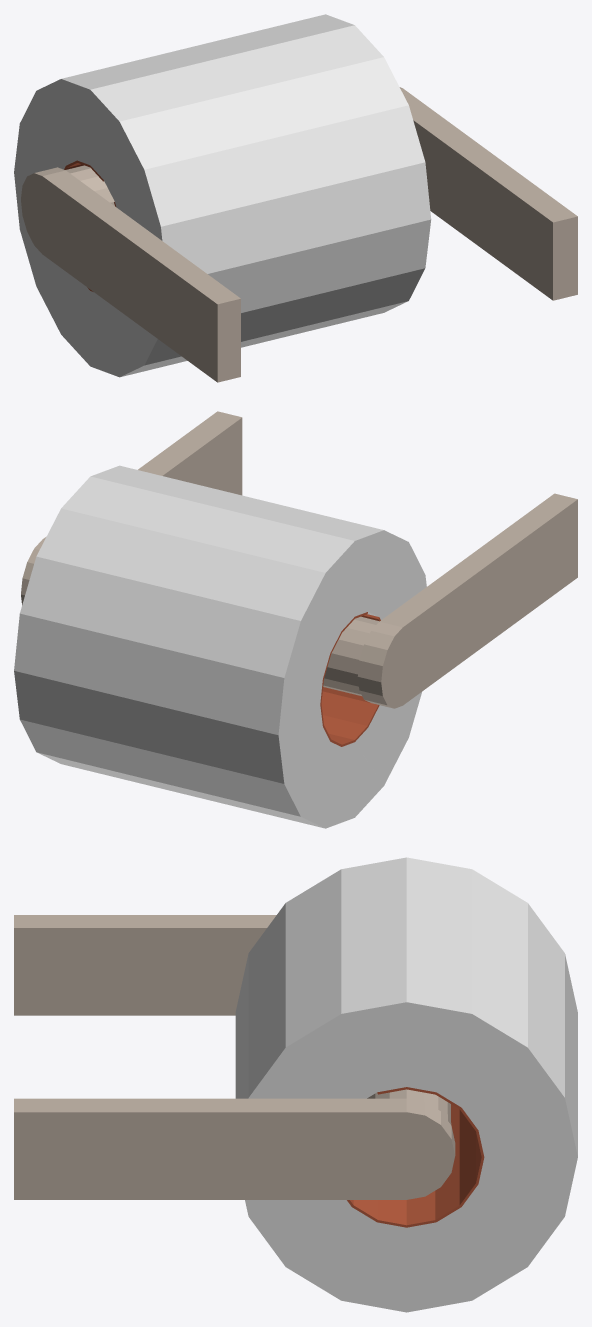
The model's file is Toilet_Paper.fbx.
3 renders of one model, top to bottom at view 1: azimuth 30°, elevation 25°; view 2: azimuth 150°, elevation 25°; view 3: azimuth 270°, elevation 25°, orthographic. The views are drawn at different scales.
Parts seen in each view (by area): view 1: Cylinder.002; view 2: Cylinder.002; view 3: Cylinder.002.
Boxes of the visible parts, x1,y1,x2,y2 form: Cylinder.002: (14,14,577,382); Cylinder.002: (14,411,577,828); Cylinder.002: (14,857,577,1312).
Size of the model in its own units: 272 by 200 by 329.
